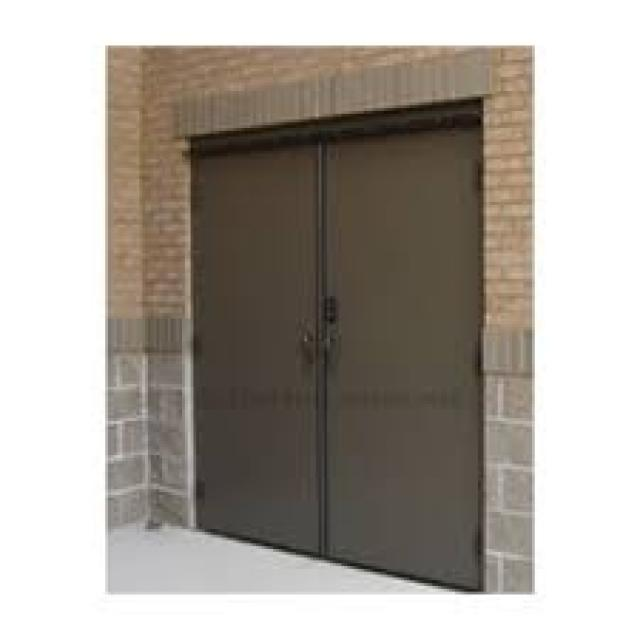door: (189, 110, 485, 590)
